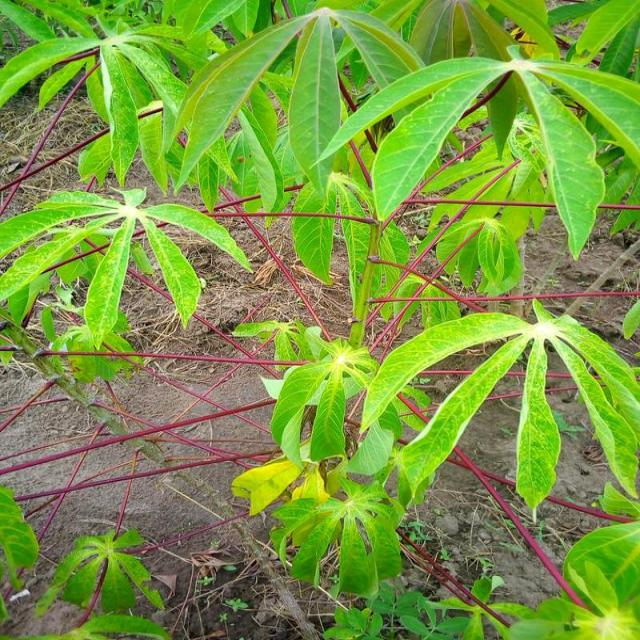cassava leaf: (1, 1, 638, 619), (360, 296, 638, 518)
